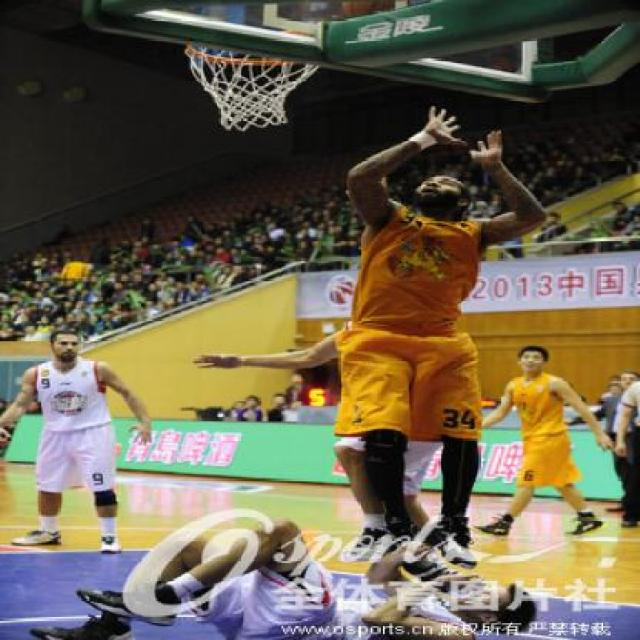fall: (28, 506, 540, 639)
